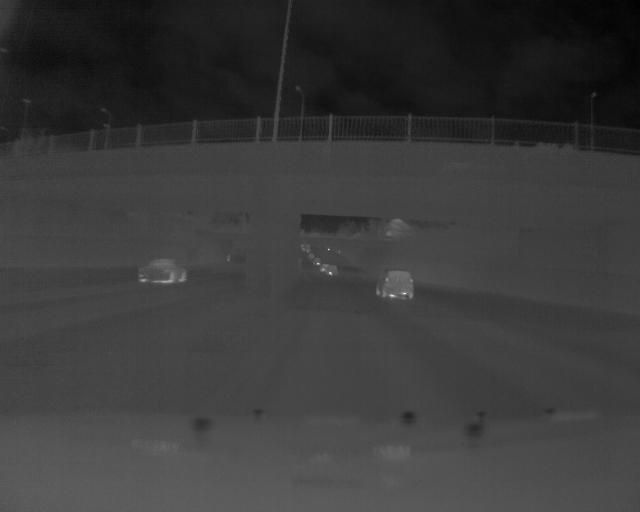car: (138, 253, 187, 288), (375, 266, 415, 302), (326, 260, 340, 278)
